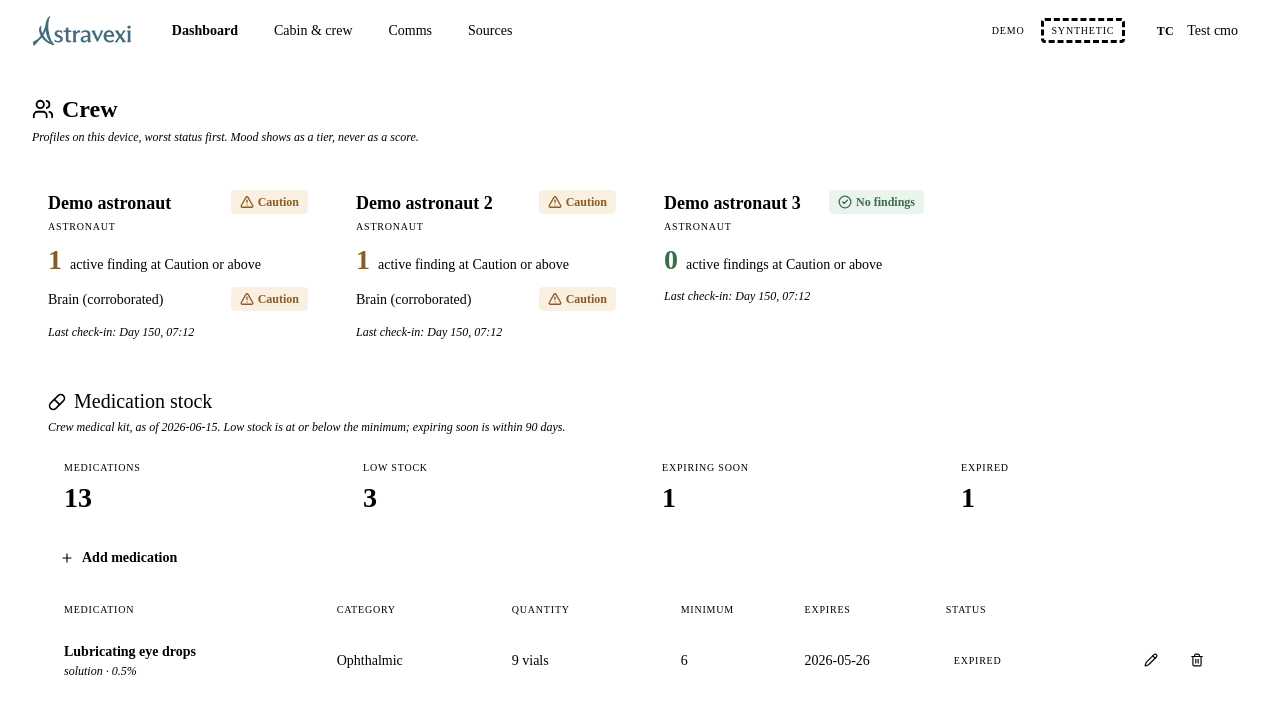
Test: sync UI › explains that DEMO mode never syncs
The image size is (1280, 720).
Click the button with aria-label "profile menu".
click(1199, 30)  # box [1149,14,1248,46]
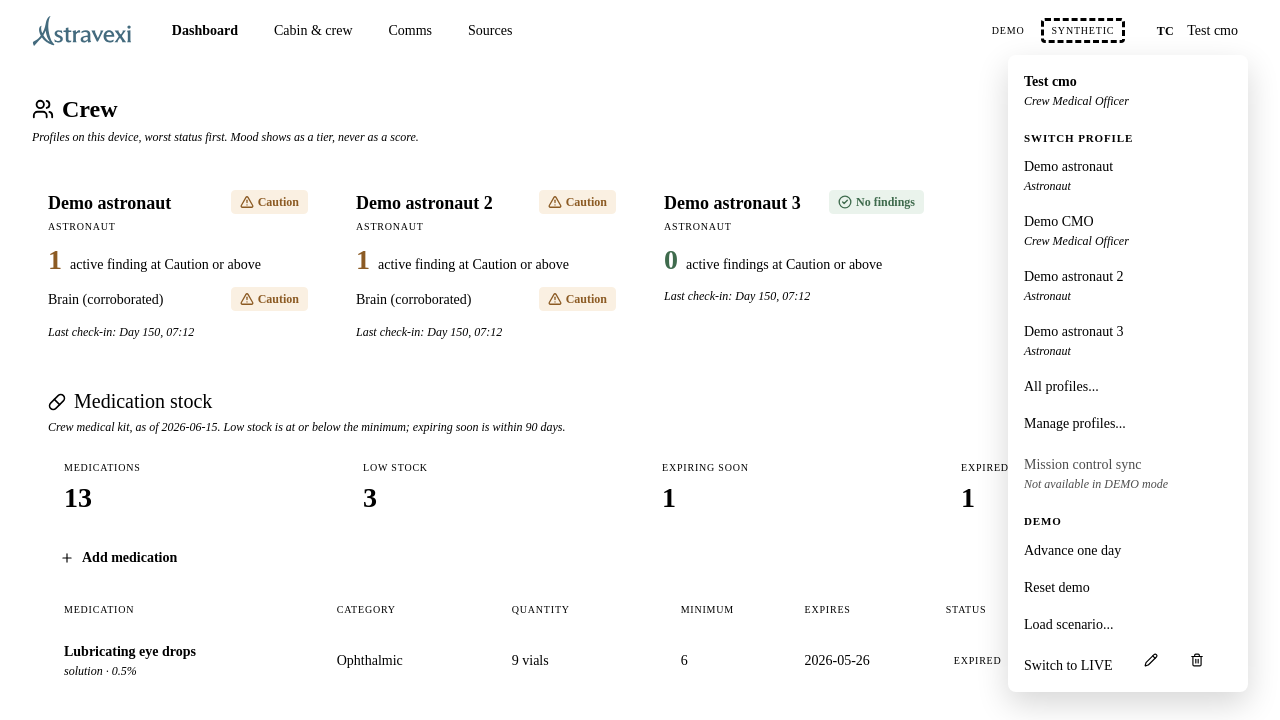
Expected: the menu item "Mission control sync Not available in DEMO mode" is shown, [1016,446,1240,501]
